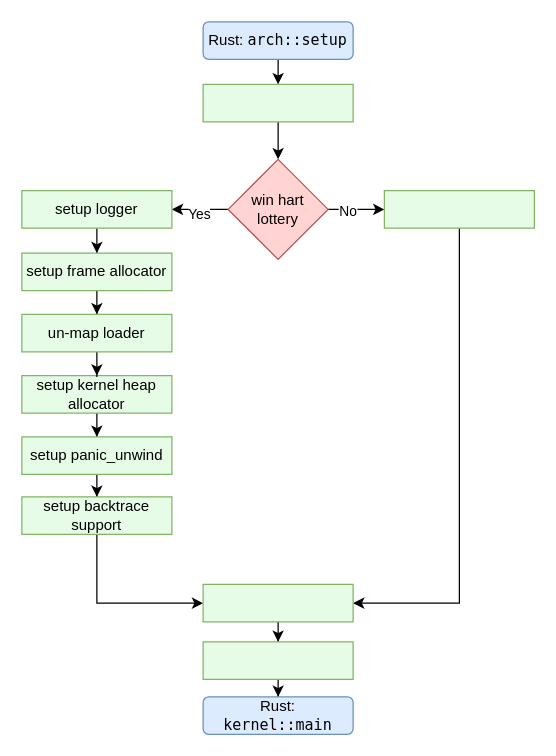
Image size: 556x756. Some labels were removed from this diagram. Each missing label, with the centre of its shape:
"enable floating point unit" belongs at pixel 277 660.
"enable interrupts" belongs at pixel 277 602.
"setup trap handler" belongs at pixel 277 102.
"wait for initializing hart" belongs at pixel 458 208.
